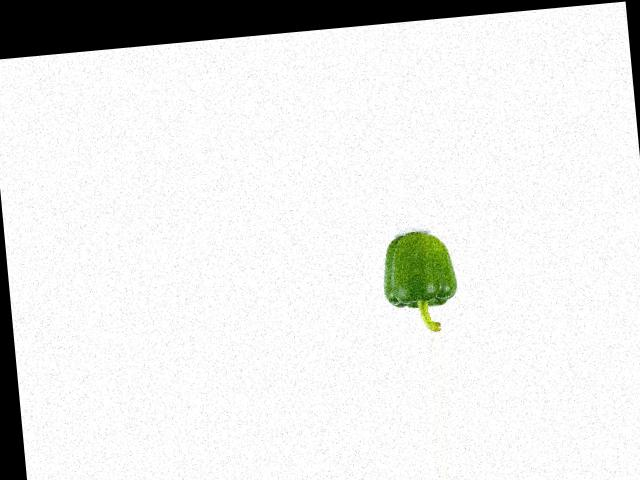bell_pepper: (367, 228, 462, 334)
